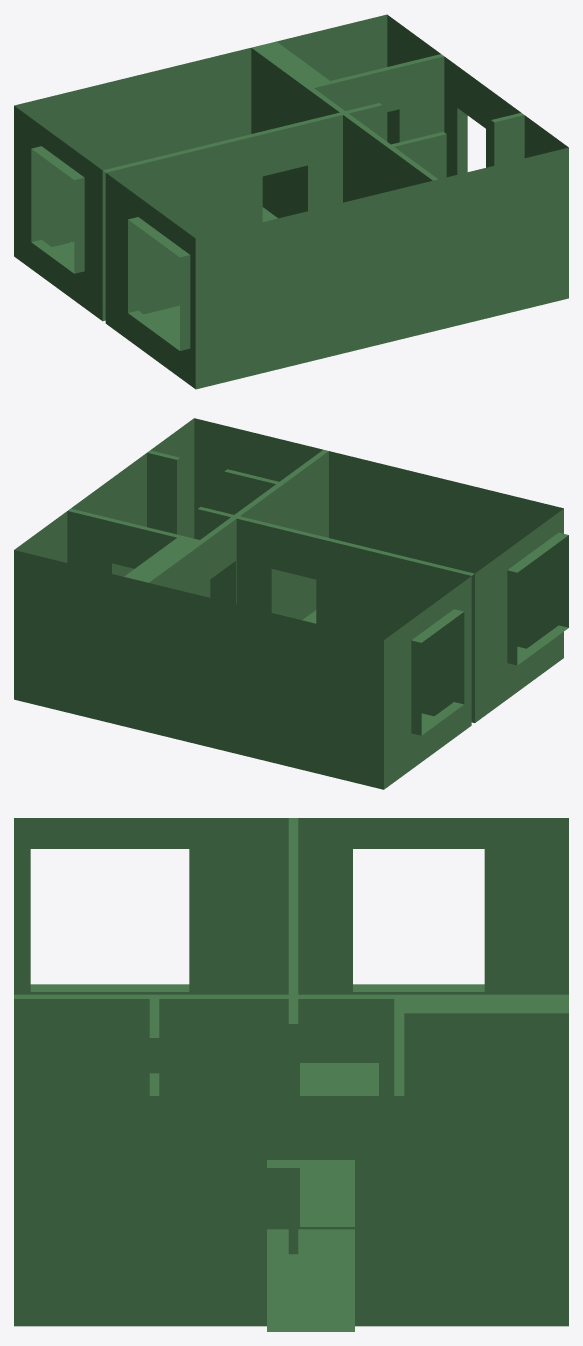
Rendered from Rooms_A_1_2_5.FBX.
The picture shows the model from 3 angles, top to bottom: view 1: azimuth 30°, elevation 25°; view 2: azimuth 150°, elevation 25°; view 3: azimuth 270°, elevation 25°; orthographic projection. The views are drawn at different scales.
Visible parts, largest first — view 1: Rooms_A_1_2_5; view 2: Rooms_A_1_2_5; view 3: Rooms_A_1_2_5.
Boxes of the visible parts, bbox=[...] form: Rooms_A_1_2_5: bbox=[14, 14, 568, 389]; Rooms_A_1_2_5: bbox=[14, 418, 568, 789]; Rooms_A_1_2_5: bbox=[14, 818, 568, 1331].
Size of the model in its own units: 7.65 by 2.8 by 6.11.
